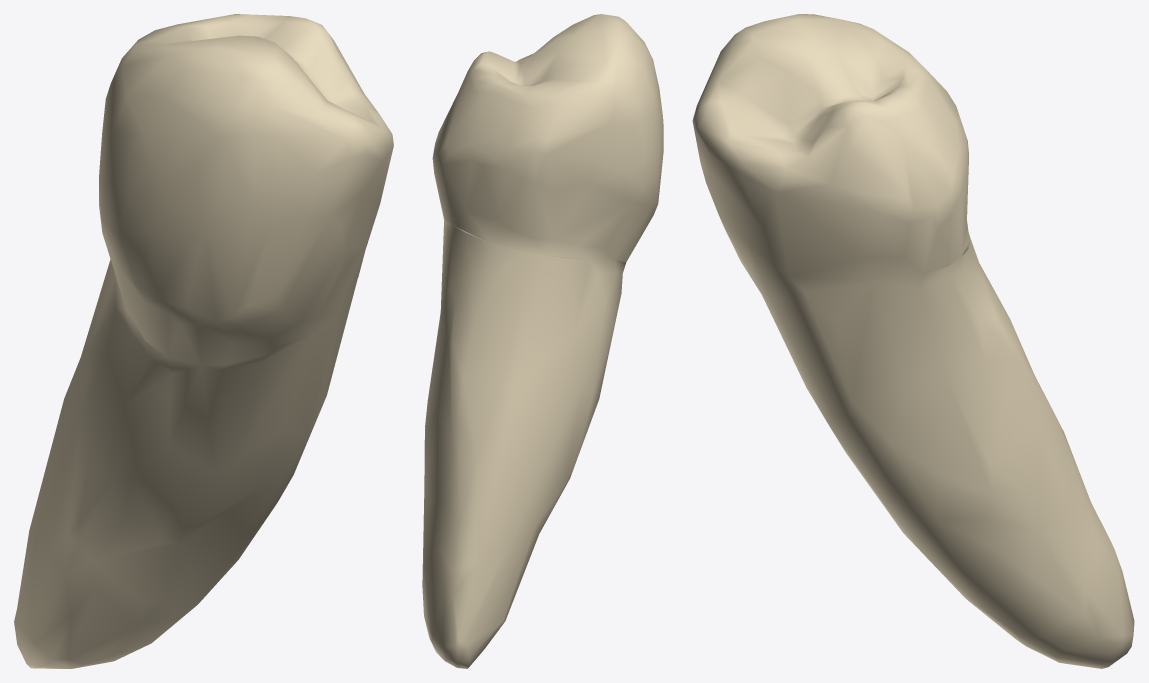
The model's file is esqueleto-lower-first-premolar-r.glb.
3 views of the same model, side by side, from view 1: azimuth 30°, elevation 25°; view 2: azimuth 150°, elevation 25°; view 3: azimuth 270°, elevation 25° (orthographic). The views are drawn at different scales.
Parts seen in each view (by area): view 1: Lower first premolar.r; view 2: Lower first premolar.r; view 3: Lower first premolar.r.
Boxes of the visible parts, box(x1,y1,x2,y2) form: Lower first premolar.r: box(14, 14, 393, 668); Lower first premolar.r: box(422, 14, 663, 668); Lower first premolar.r: box(692, 14, 1134, 668).
Bounding box in the file's own units: 0.00777 × 0.022 × 0.0138.
